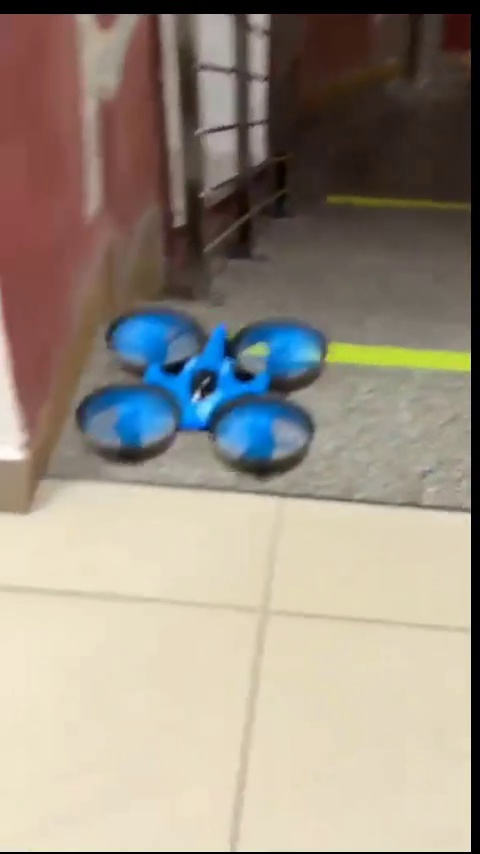drone: (77, 302, 326, 476)
